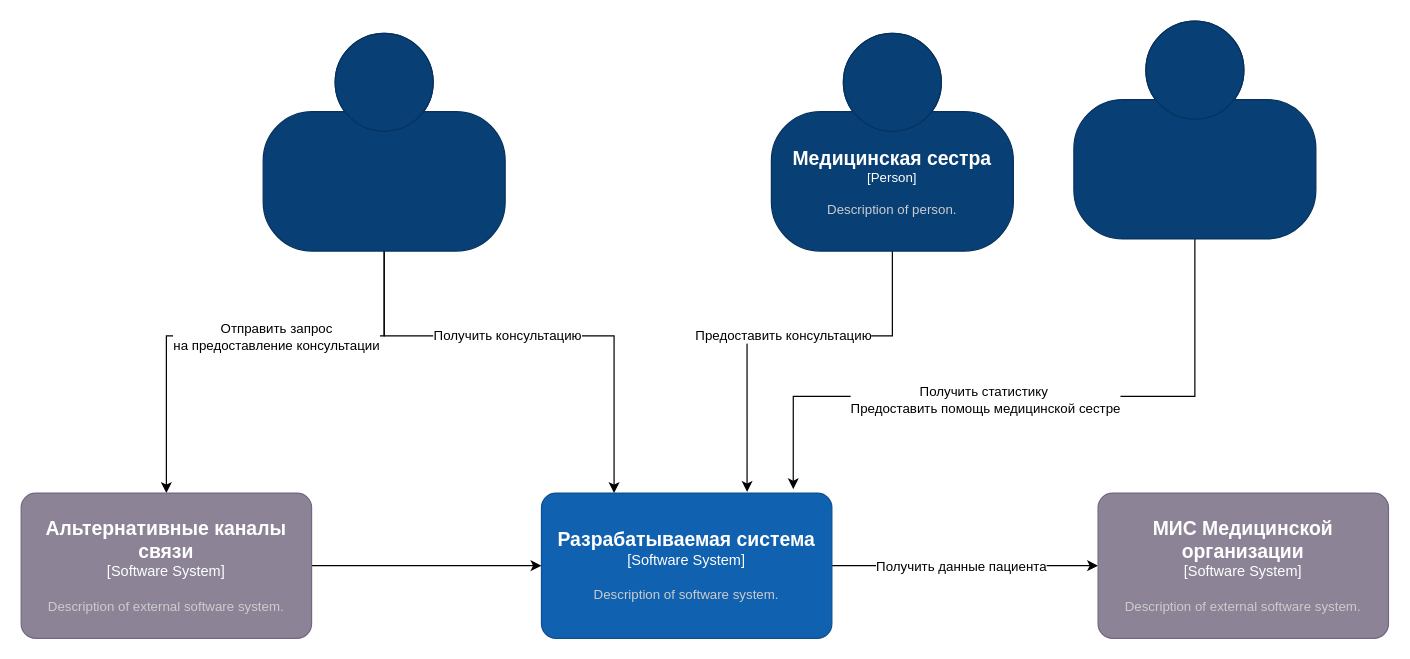
This 1410x659 diagram has some shape labels left out. The shapes that lost their labels are listed below. From the top down, each one's box as (x1, y1, x2, y2) in pixels, then its label:
(262, 32, 505, 251): Пациент [Person] Description of person.
(1073, 20, 1316, 239): Медицинский персонал [Person] Description of person.
